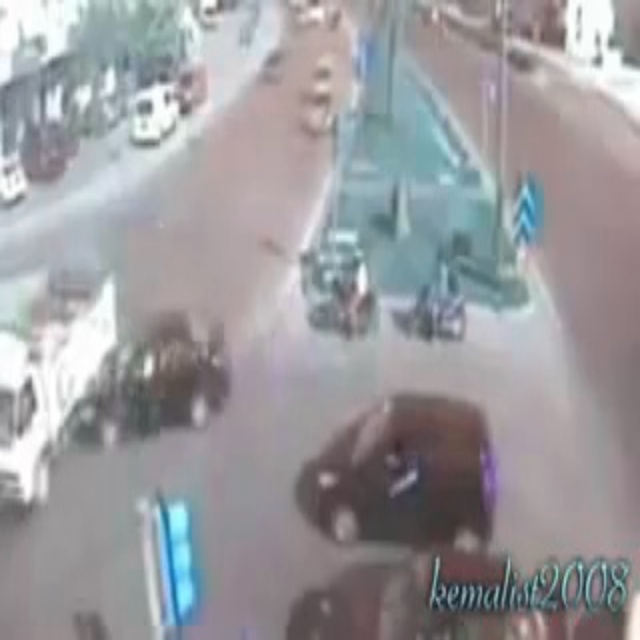acc: (2, 259, 233, 487)
